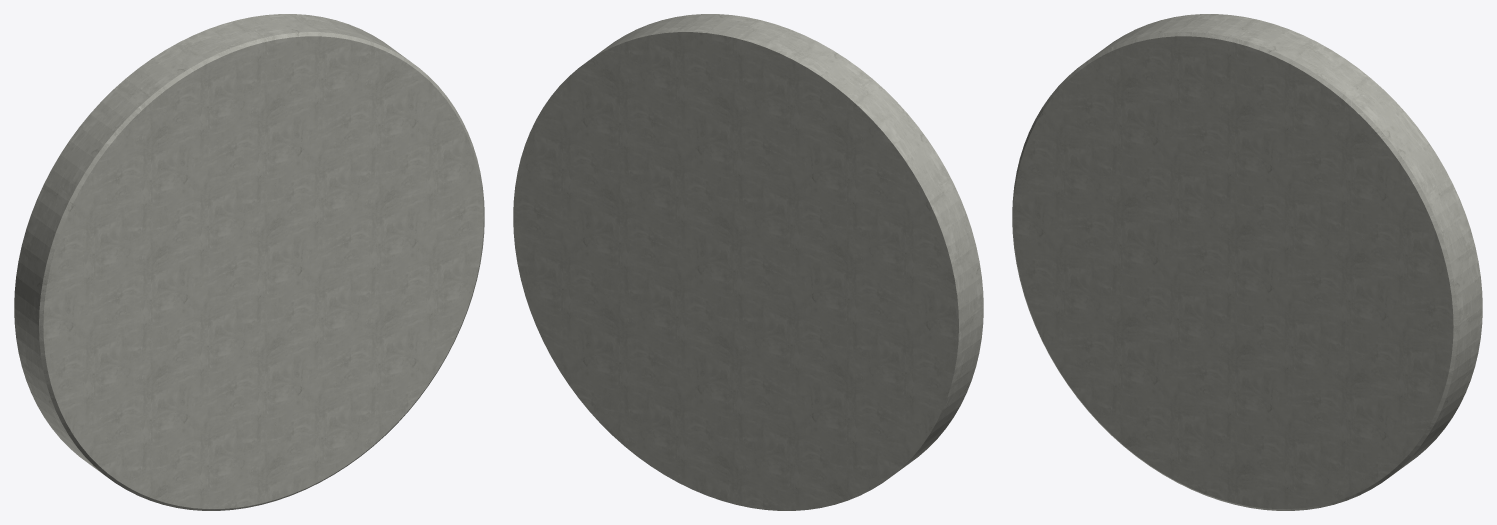
The model's file is foundation.glb.
3 renders of one model, left to right at view 1: azimuth 30°, elevation 25°; view 2: azimuth 150°, elevation 25°; view 3: azimuth 330°, elevation 25°, orthographic.
Parts seen in each view (by area): view 1: plinth; view 2: plinth; view 3: plinth.
Part boxes in pixels (x1,y1,x2,y2): plinth: (14,14,484,510); plinth: (513,14,983,510); plinth: (1012,14,1482,510).
Size of the model in its own units: 7.8 by 7.8 by 0.8.
1 material, 1 textured.
